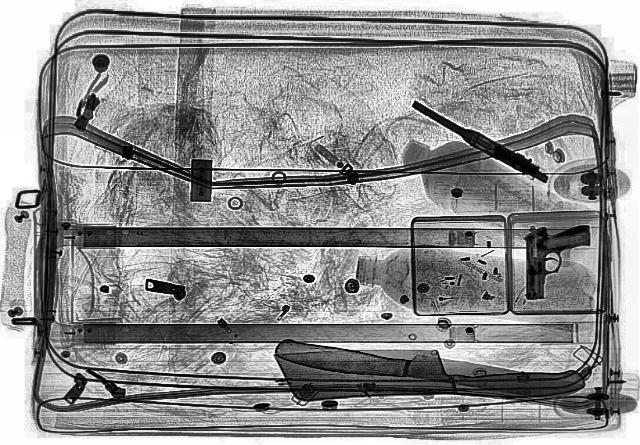Gun: (402, 98, 558, 184), (522, 223, 590, 299)
Knife: (272, 335, 582, 405), (270, 335, 586, 399)
